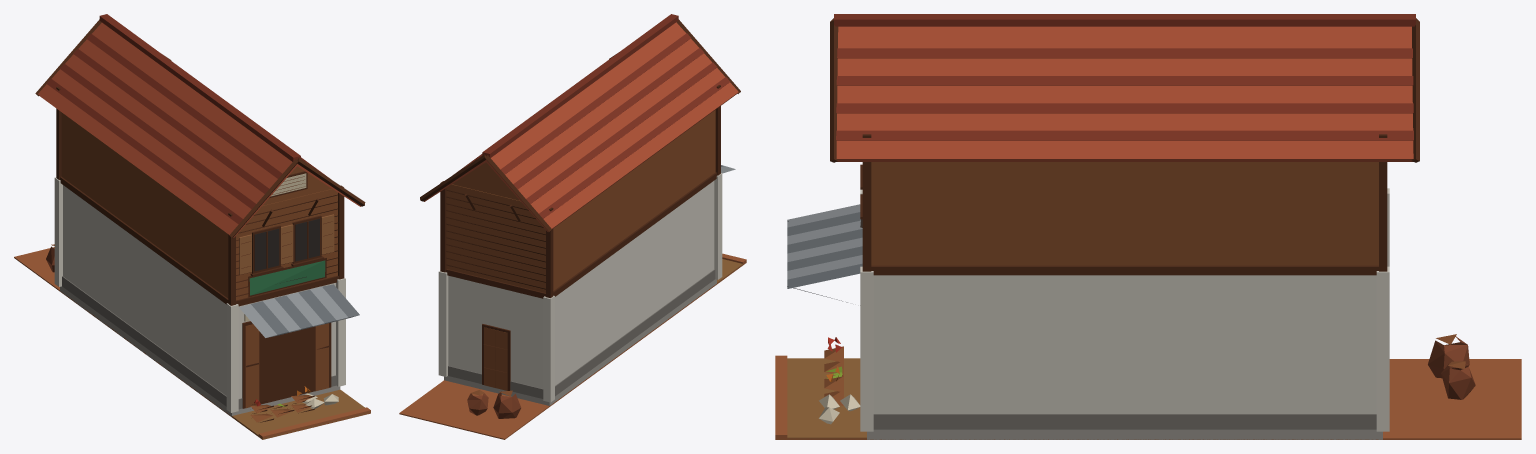
The model's file is bay1_mid2.glb.
3 renders of one model, left to right at view 1: azimuth 30°, elevation 25°; view 2: azimuth 150°, elevation 25°; view 3: azimuth 270°, elevation 25°, orthographic. The views are drawn at different scales.
Parts seen in each view (by area): view 1: body, windows; view 2: body; view 3: body.
Part boxes in pixels (x1,y1,x2,y2): body: [14, 14, 370, 439]; windows: [254, 218, 319, 271]; body: [399, 14, 746, 439]; body: [775, 14, 1521, 439].
Bounding box in the file's own units: 5.02 × 9.03 × 15.9.
